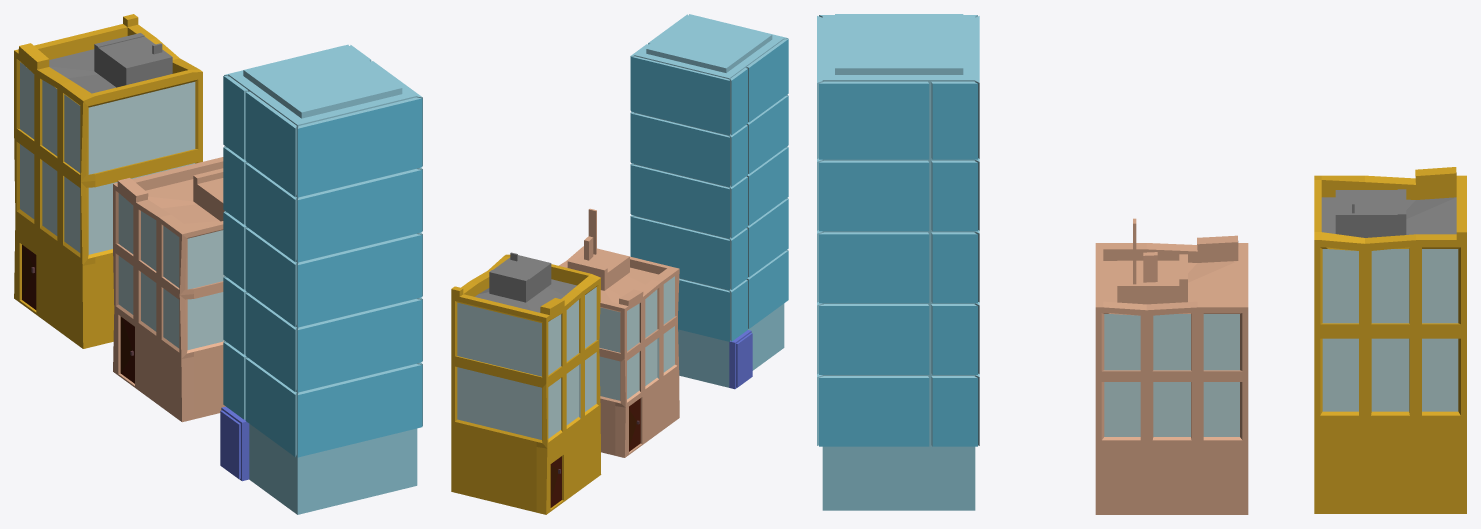
Rendered from Set_1.fbx.
3 renders of one model, left to right at view 1: azimuth 30°, elevation 25°; view 2: azimuth 150°, elevation 25°; view 3: azimuth 270°, elevation 25°, orthographic. The views are drawn at different scales.
Visible parts, largest first — view 1: Skyscraper_2, Building_1.002, Building_1; view 2: Skyscraper_2, Building_1.002, Building_1; view 3: Skyscraper_2, Building_1.002, Building_1.
Part boxes in pixels (x1,y1,x2,y2): Skyscraper_2: (220, 44, 422, 514); Building_1.002: (14, 14, 202, 348); Building_1: (113, 157, 225, 422); Skyscraper_2: (630, 14, 788, 389); Building_1.002: (451, 252, 601, 514); Building_1: (559, 208, 679, 457); Skyscraper_2: (817, 14, 979, 510); Building_1.002: (1314, 167, 1466, 513); Building_1: (1095, 218, 1248, 514).
Size of the model in its own units: 229 by 632 by 851.
